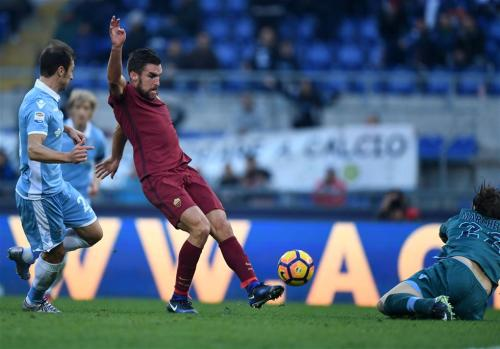ball: (276, 249, 316, 287)
